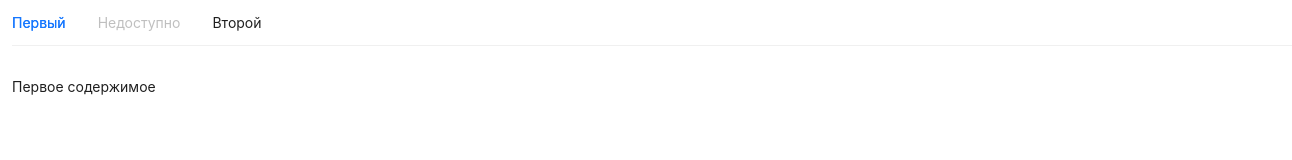
Test case: CSS-first UI primitives › supports tab selection and keyboard navigation while skipping disabled tabs
Expected: the text "Первое содержимое" is shown, [12,78,156,95]
Click the tab "Второй" at (237, 23), box [212,12,262,34]
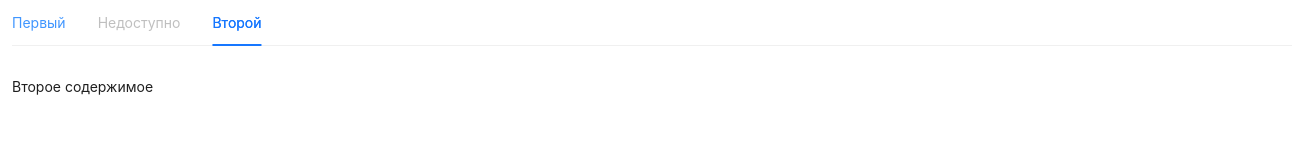
Expected: the text "Второе содержимое" is shown, [12,78,153,95]
